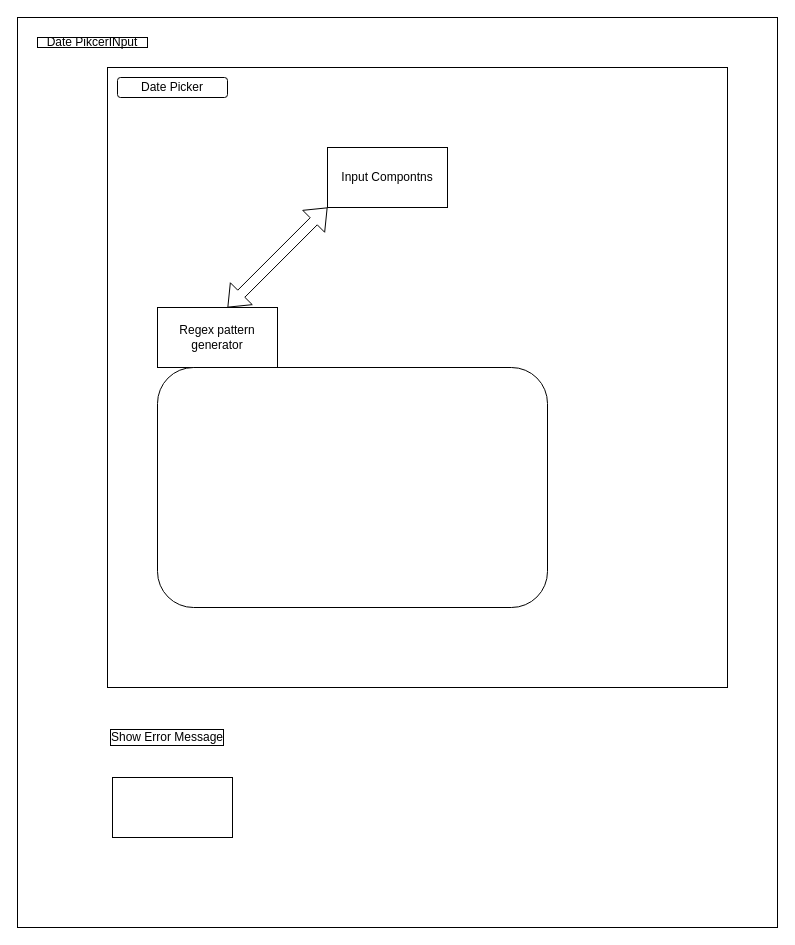
Some shapes in this 795 by 945 pixel diagram are drawn without their labels. The centre of each missing label's shape, as x and y in pixels:
Get the current date format regex based on the language: point (352, 487)
Show Picker: point (172, 807)
